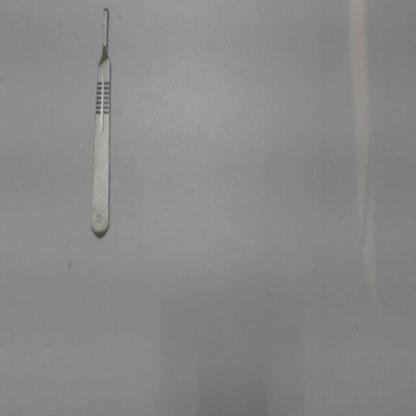No.4 BP Handle: (85, 3, 119, 247)
